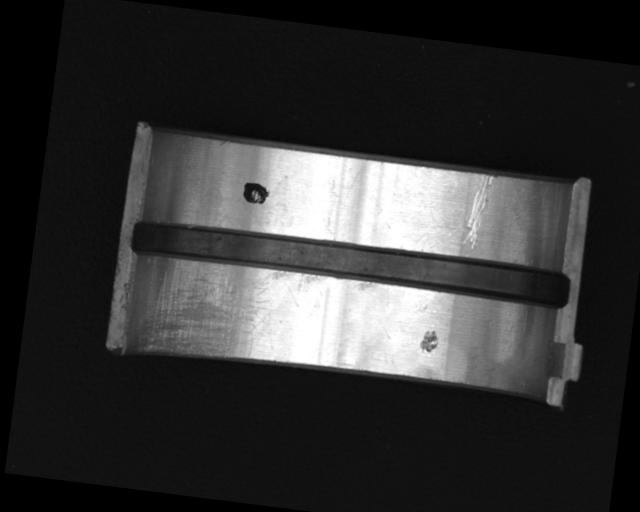blot: (239, 180, 272, 206)
bruise: (416, 326, 442, 355)
gap: (126, 213, 574, 312)
nick: (459, 169, 496, 251)
scratch: (131, 251, 290, 372)
